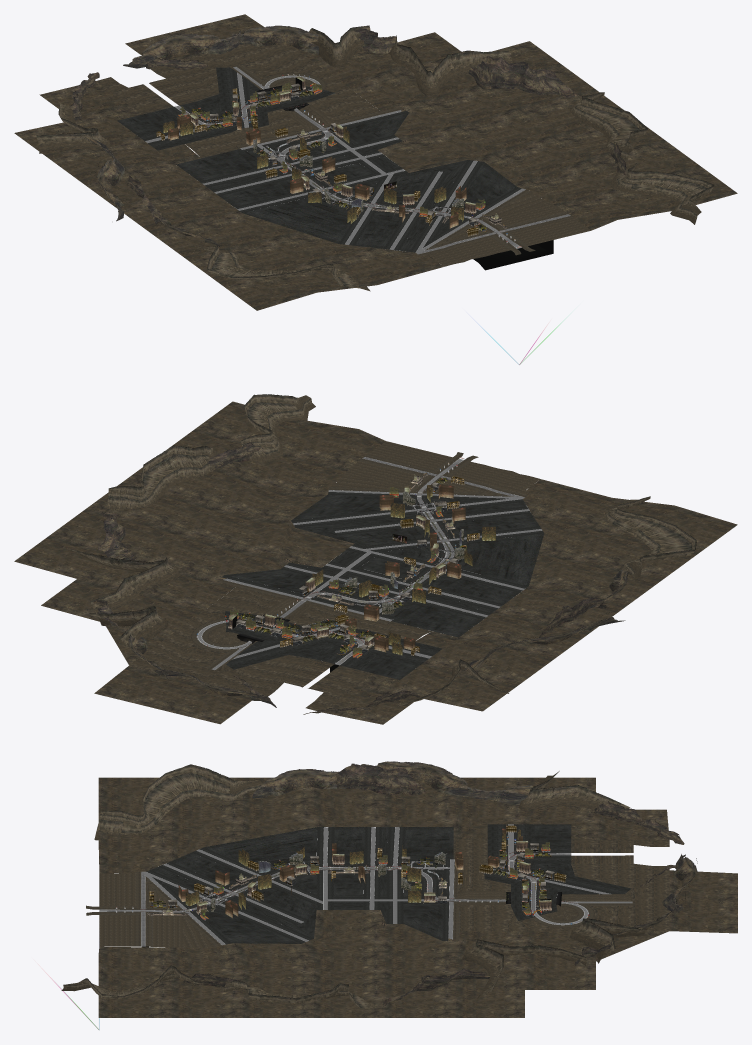
File: stage-lasv.glb
3 renders of one model, top to bottom at view 1: azimuth 30°, elevation 25°; view 2: azimuth 150°, elevation 25°; view 3: azimuth 270°, elevation 25°, orthographic. The views are drawn at different scales.
Parts seen in each view (by area): view 1: part 1 chunk -1,-7, part 1 chunk -2,-6, part 1 chunk -2,-10, part 1 chunk -1,-2, part 1 chunk 3,-1, part 1 chunk -3,-4, part 1 chunk 3,-7, part 1 chunk -2,-12, part 1 chunk 3,-9, part 1 chunk 4,-5, part 1 chunk -6,-2, part 1 chunk 0,-4 (+22 smaller); view 2: part 1 chunk -1,-7, part 1 chunk -2,-6, part 1 chunk -2,-10, part 1 chunk -1,-2, part 1 chunk 4,-5, part 1 chunk -3,-4, part 1 chunk -6,-2, part 1 chunk 3,-1, part 1 chunk 3,-9, part 1 chunk 0,-4, part 1 chunk -4,-7, part 1 chunk -1,-9 (+25 smaller); view 3: part 1 chunk -1,-7, part 1 chunk -2,-6, part 1 chunk -2,-10, part 1 chunk -1,-2, part 1 chunk -6,-2, part 1 chunk -3,-4, part 1 chunk -6,-7, part 1 chunk 0,-4, part 1 chunk -6,-6, part 1 chunk 3,-9, part 1 chunk -6,-10, part 1 chunk -4,-7 (+26 smaller).
Boxes of the visible parts, x1,y1,x2,y2 form: part 1 chunk -1,-7: (14, 14, 737, 310); part 1 chunk -2,-6: (135, 67, 521, 252); part 1 chunk -2,-10: (96, 44, 380, 158); part 1 chunk -1,-2: (418, 189, 590, 270); part 1 chunk 3,-1: (610, 163, 714, 224); part 1 chunk -3,-4: (243, 197, 351, 243); part 1 chunk 3,-7: (468, 56, 579, 97); part 1 chunk -2,-12: (123, 31, 240, 69); part 1 chunk 3,-9: (388, 35, 512, 97); part 1 chunk 4,-5: (569, 92, 647, 159); part 1 chunk -6,-2: (193, 245, 359, 288); part 1 chunk 0,-4: (427, 160, 516, 211); part 1 chunk -1,-7: (14, 401, 737, 724); part 1 chunk -2,-6: (222, 492, 543, 669); part 1 chunk -2,-10: (129, 586, 431, 710); part 1 chunk -1,-2: (329, 441, 540, 502); part 1 chunk 4,-5: (107, 445, 218, 509); part 1 chunk -3,-4: (457, 533, 544, 586); part 1 chunk -6,-2: (604, 496, 696, 580); part 1 chunk 3,-1: (241, 394, 315, 461); part 1 chunk 3,-9: (68, 548, 180, 613); part 1 chunk 0,-4: (291, 494, 416, 528); part 1 chunk -4,-7: (387, 600, 482, 637); part 1 chunk -1,-9: (191, 579, 389, 671); part 1 chunk -1,-7: (98, 777, 737, 1017); part 1 chunk -2,-6: (146, 824, 631, 944); part 1 chunk -2,-10: (453, 837, 669, 931); part 1 chunk -1,-2: (86, 871, 221, 947); part 1 chunk -6,-2: (96, 764, 260, 832); part 1 chunk -3,-4: (204, 827, 317, 873); part 1 chunk -6,-7: (361, 761, 532, 805); part 1 chunk 0,-4: (199, 899, 313, 943); part 1 chunk -6,-6: (336, 763, 425, 795); part 1 chunk 3,-9: (462, 939, 586, 998); part 1 chunk -6,-10: (518, 771, 630, 811); part 1 chunk -4,-7: (405, 827, 453, 863).
Size of the model in its own units: 3627 by 970 by 4395.
Materials: 132 (129 with a texture image).
